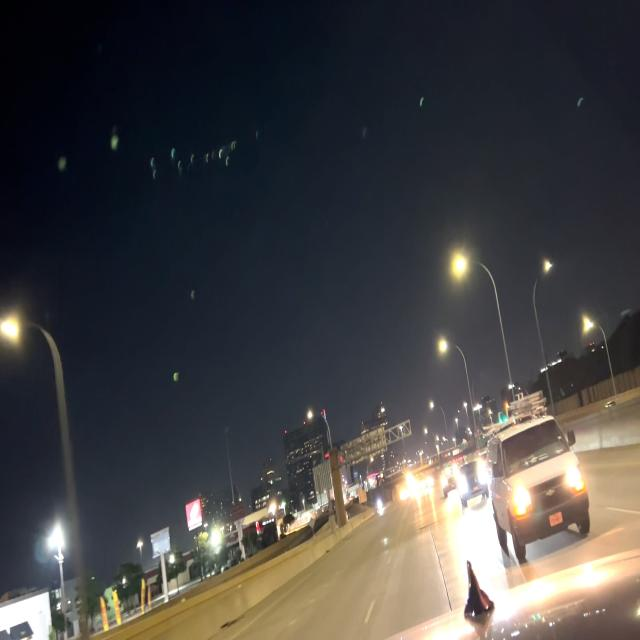back-of-sign: (343, 427, 388, 463)
